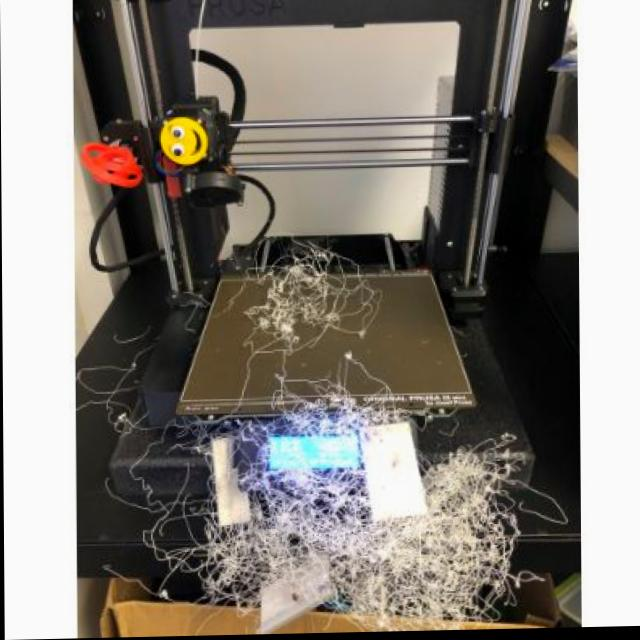spaghetti: (91, 398, 558, 638), (150, 214, 419, 392)
